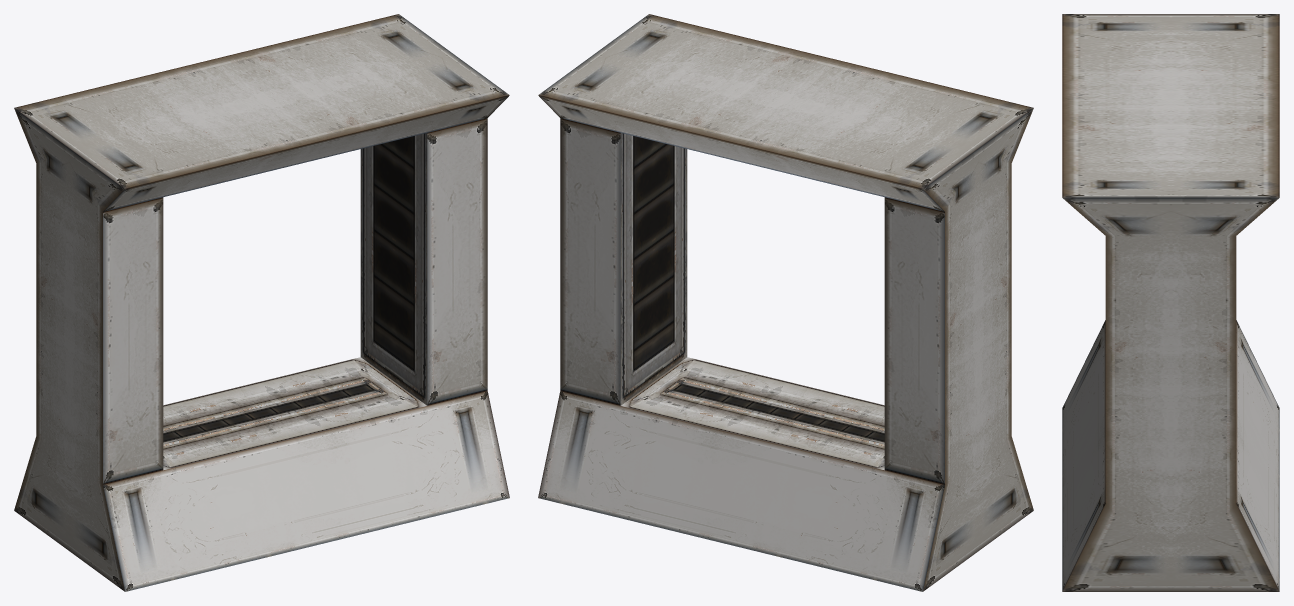
File: scifi_window_small2.FBX
The picture shows the model from 3 angles, left to right: view 1: azimuth 30°, elevation 25°; view 2: azimuth 150°, elevation 25°; view 3: azimuth 270°, elevation 25°; orthographic projection. The views are drawn at different scales.
Visible parts, largest first — view 1: Plane154; view 2: Plane154; view 3: Plane154.
Part boxes in pixels (bbox=[...]): Plane154: bbox=[14, 14, 509, 591]; Plane154: bbox=[538, 14, 1033, 591]; Plane154: bbox=[1062, 14, 1279, 591].
Bounding box in the file's own units: 254 × 254 × 127.
